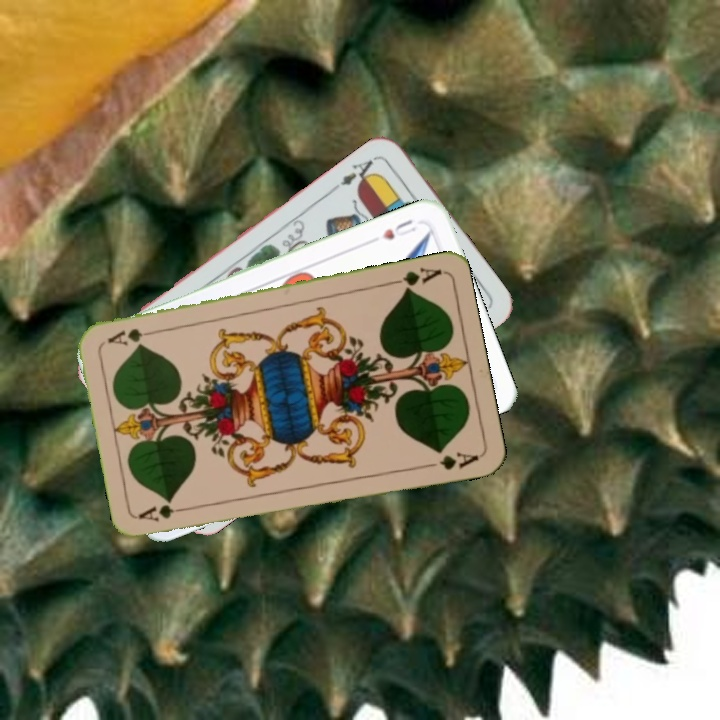EA: (336, 152, 380, 190)
GA: (385, 263, 444, 294), (136, 502, 195, 524)
HU: (378, 215, 419, 243)
